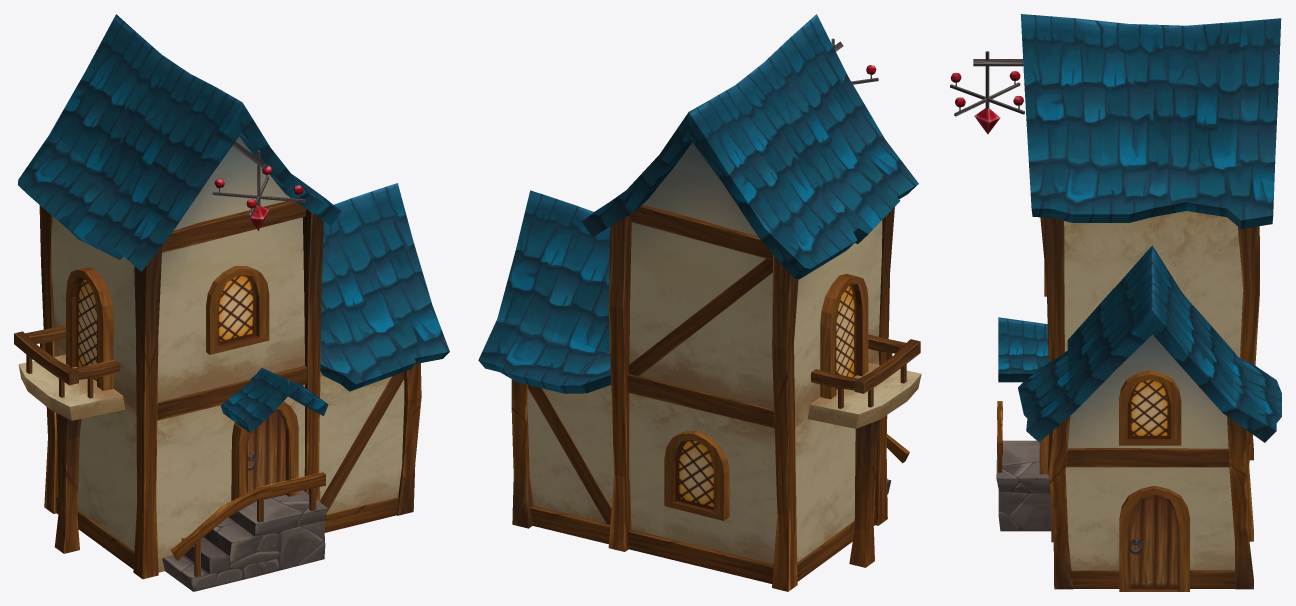
The model's file is Fantasy_House_6.glb.
The picture shows the model from 3 angles, left to right: view 1: azimuth 30°, elevation 25°; view 2: azimuth 150°, elevation 25°; view 3: azimuth 270°, elevation 25°; orthographic projection. The views are drawn at different scales.
Parts seen in each view (by area): view 1: Fantasy_House_6; view 2: Fantasy_House_6; view 3: Fantasy_House_6.
Boxes of the visible parts, x1=… form: Fantasy_House_6: x1=14, y1=14, x2=449, y2=591; Fantasy_House_6: x1=478, y1=14, x2=921, y2=591; Fantasy_House_6: x1=950, y1=14, x2=1281, y2=591.
Size of the model in its own units: 7.41 by 9.14 by 5.71.
1 material, 1 textured.
